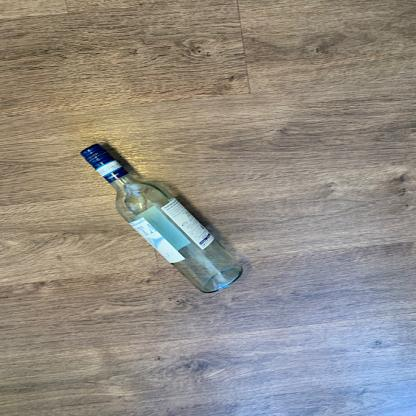trash: (78, 139, 246, 295)
